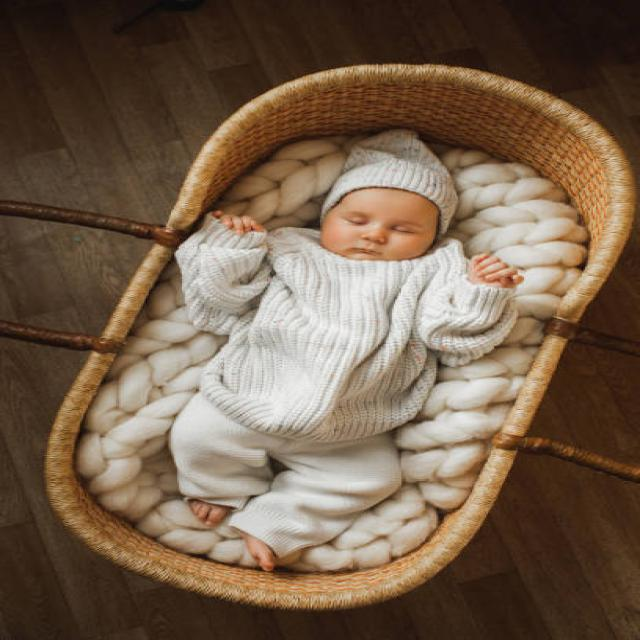baby: (167, 128, 522, 572)
